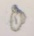microplastic: (10, 4, 26, 32)
